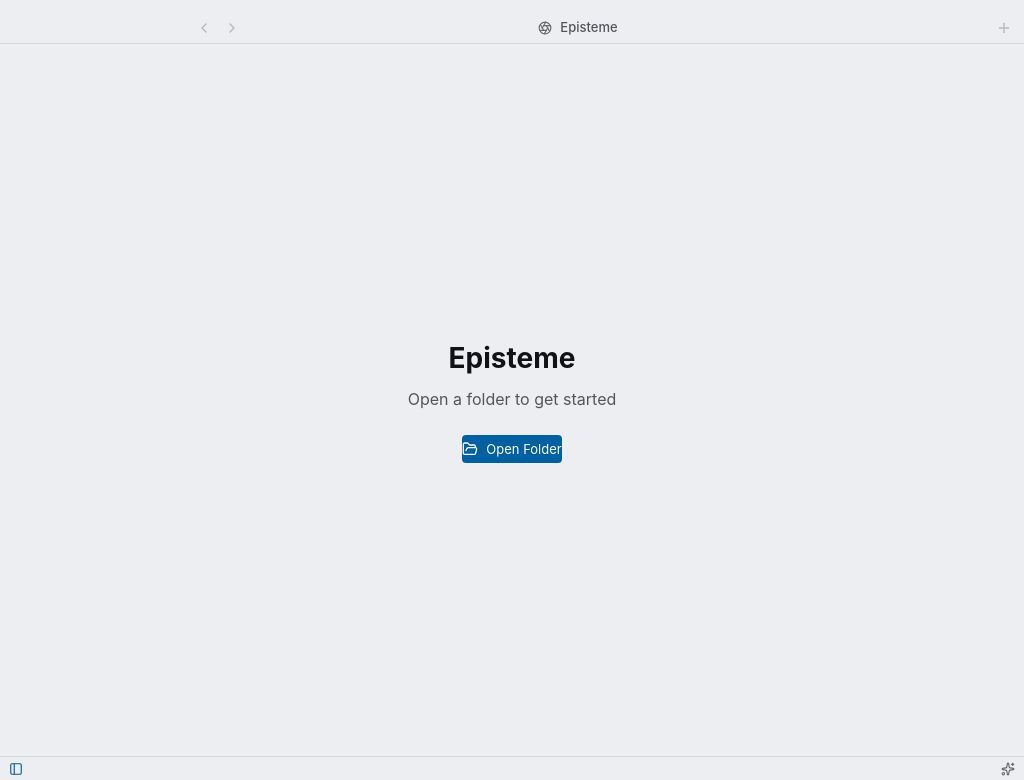
Test case: Open folder integration › error case → error displayed
Click the button "Open Folder" at point(512, 449), box left=462, top=435, right=562, bottom=463
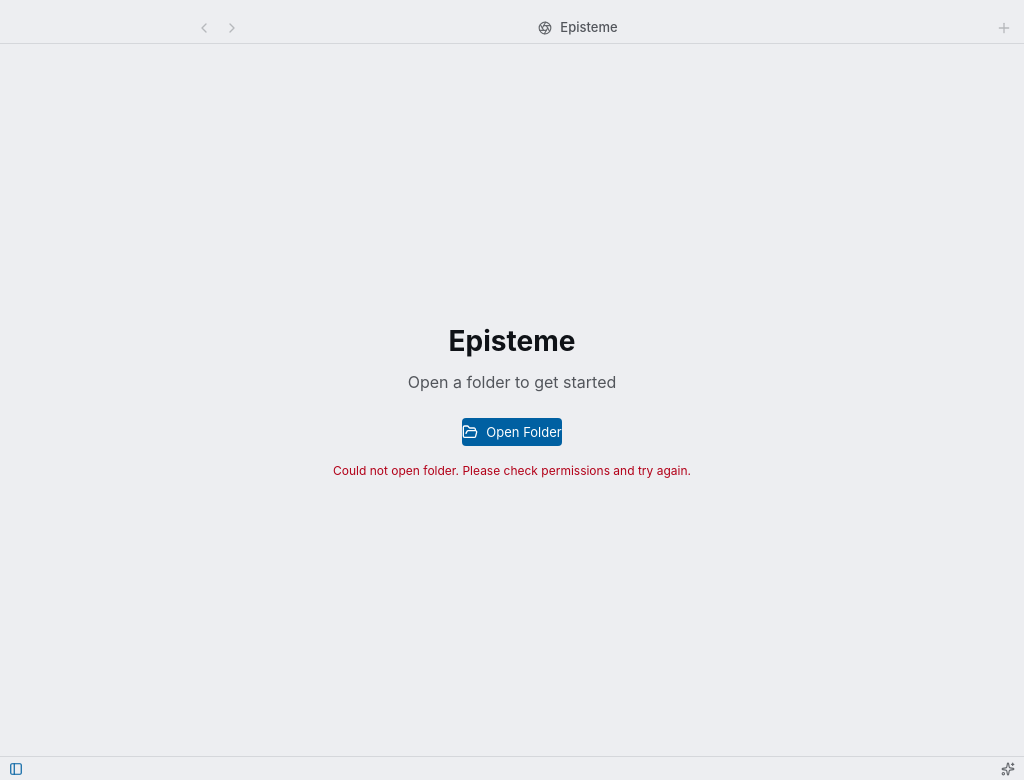
Expected: the text "Could not open folder" is shown, left=333, top=463, right=691, bottom=478
